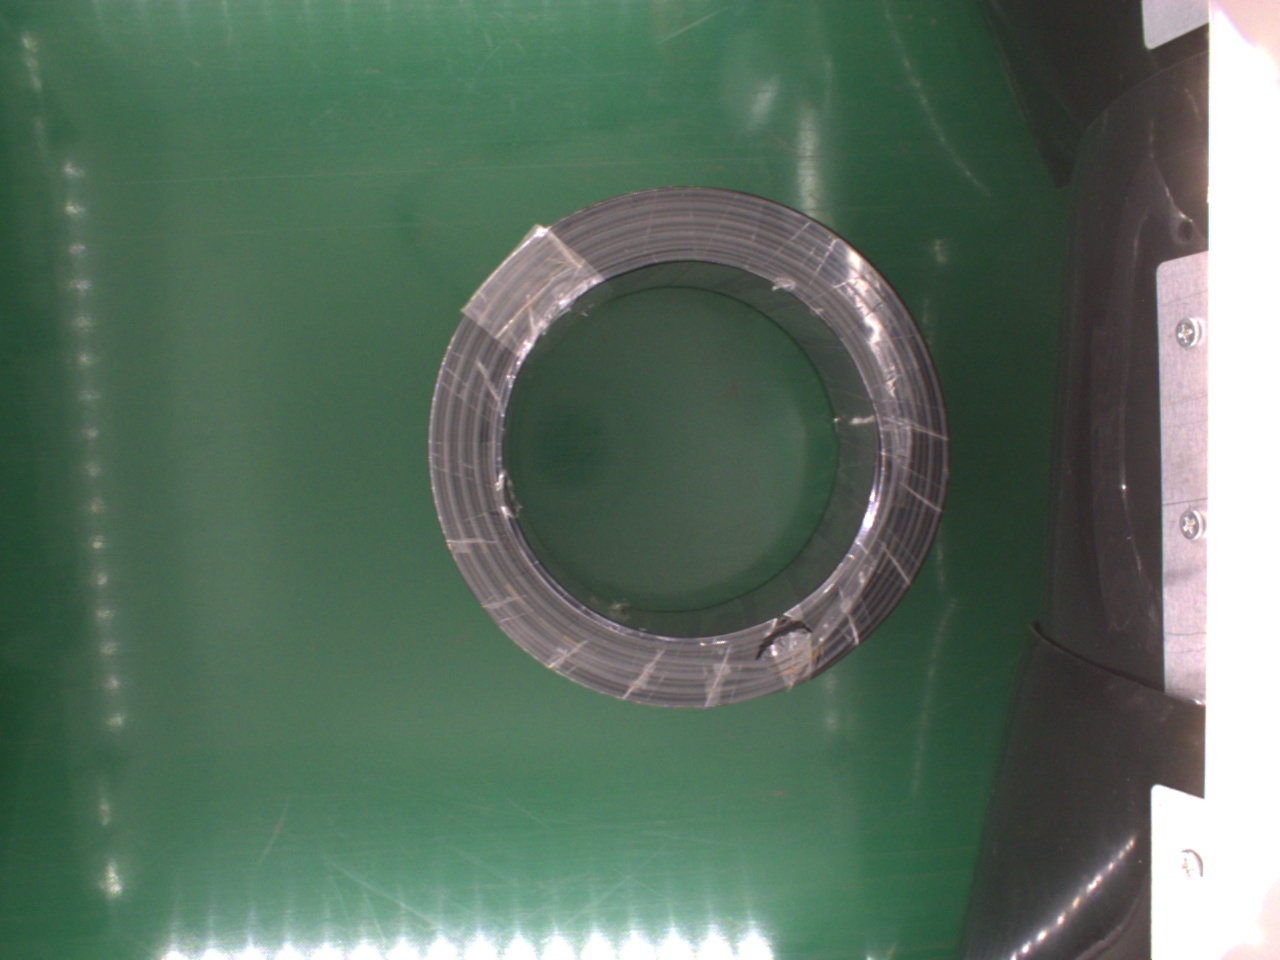black: (419, 184, 945, 709)
